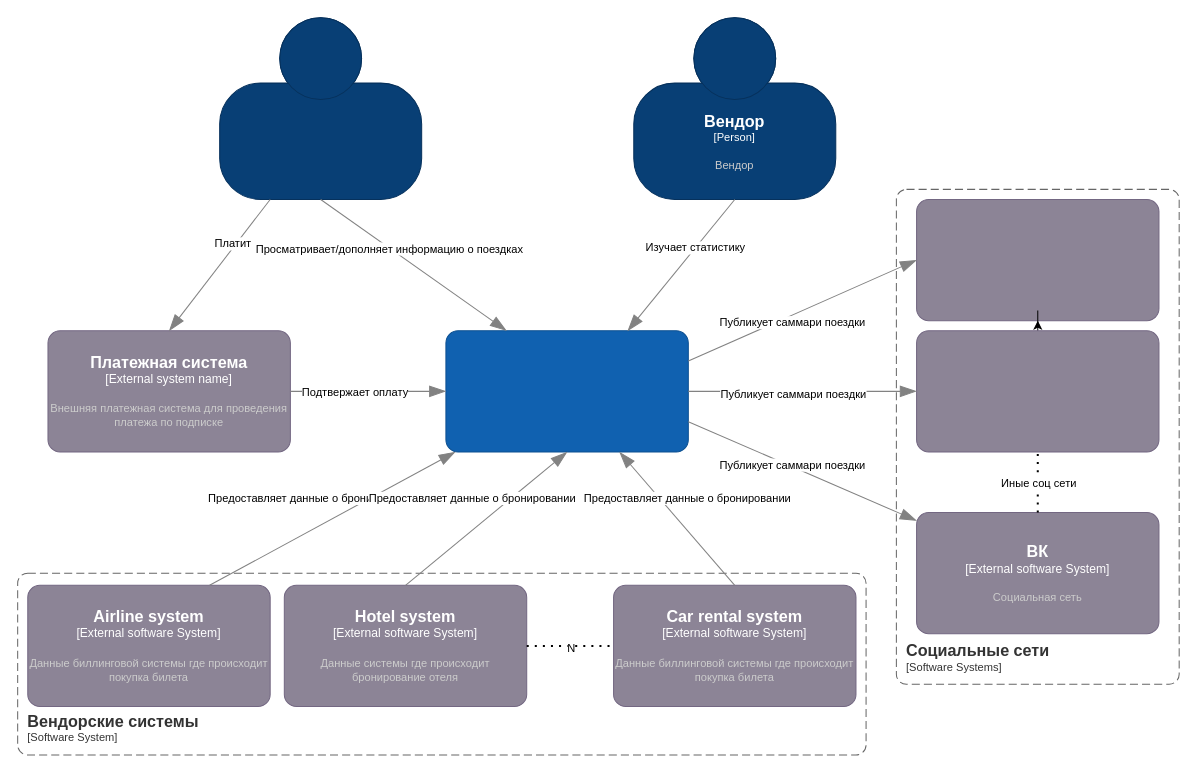
This 1197x773 diagram has some shape labels left out. Each missing label, with the box of its shape:
Travel agency app [Software System] Description of software system.: (445, 330, 688, 452)
Нельзяграм [External software System] Социальная сеть: (916, 198, 1159, 321)
Путешественник [Person] Путешественник: (219, 17, 422, 199)
Телеграм [External software System] Социальная сеть: (916, 330, 1159, 452)
